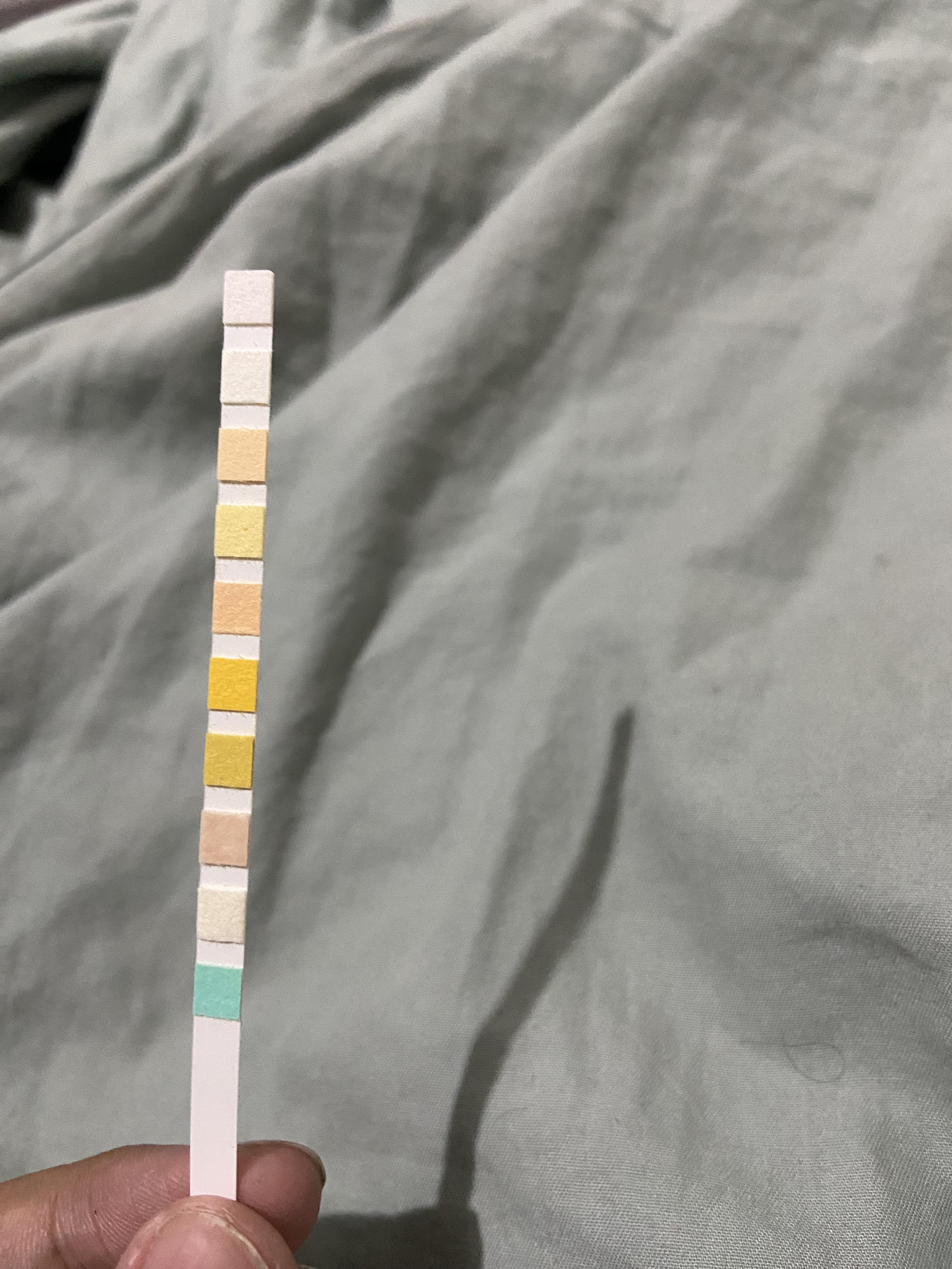Bilirubin: (199, 892, 244, 939)
Blood: (211, 659, 255, 709)
Glucose: (197, 970, 239, 1017)
Ketone: (203, 814, 246, 863)
Leukocytes: (226, 272, 270, 322)
Nitrite: (223, 352, 270, 402)
Protein: (217, 507, 261, 557)
SpGravity: (207, 735, 250, 786)
Urobilinogen: (219, 428, 264, 480)
pH: (214, 583, 259, 633)
strip: (191, 270, 274, 1191)
